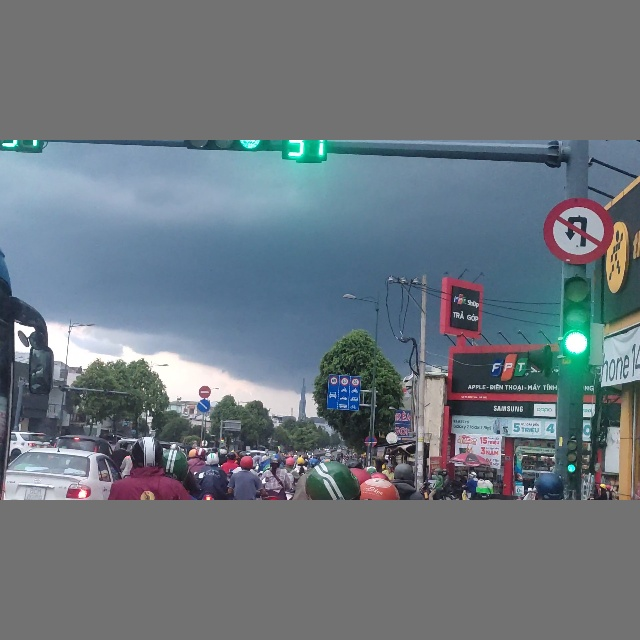P.102: (199, 385, 211, 399)
P.124a*: (542, 197, 614, 264)
R.302a: (197, 399, 211, 412)
R.415a: (326, 373, 361, 411)
